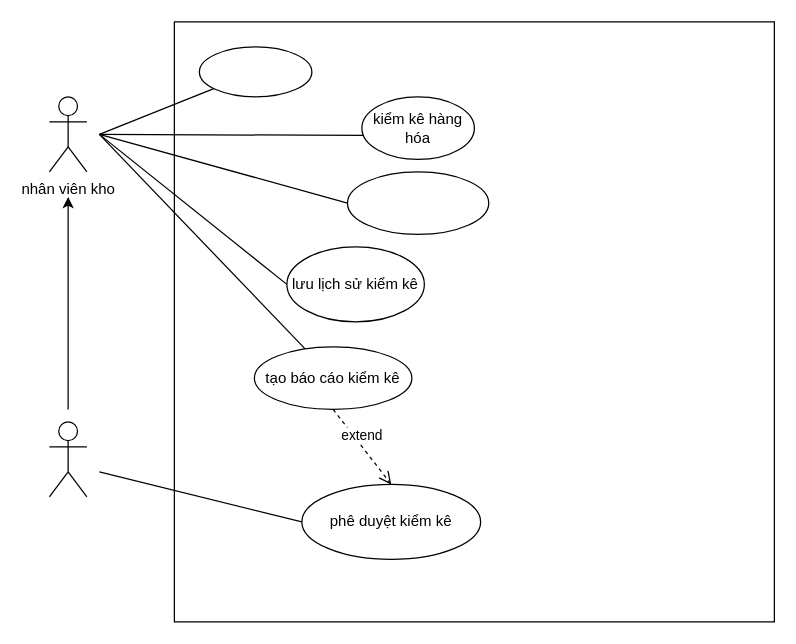
Image size: 796x644. Some labels were removed from this diagram. Each missing label, with the box of its shape:
kiểm tra chênh lệch tồn kho: (346, 171, 489, 234)
thủ kho: (48, 421, 87, 497)
Đăng nhập: (198, 46, 312, 97)
